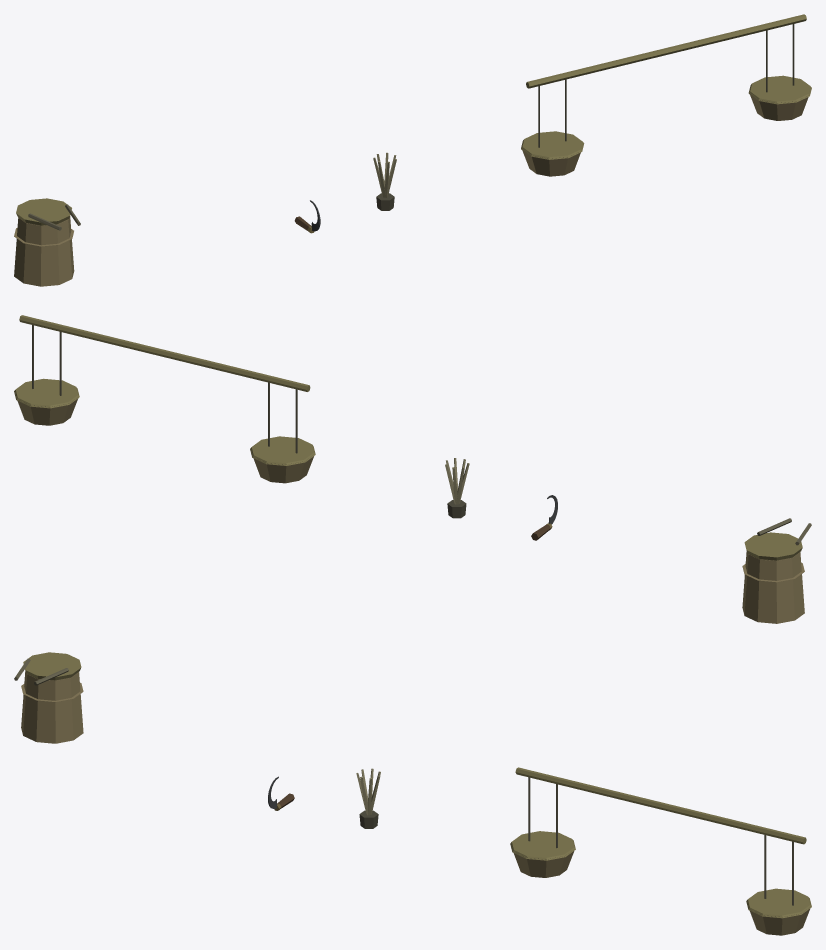
Rendered from rice_harvest.glb.
The picture shows the model from 3 angles, top to bottom: view 1: azimuth 30°, elevation 25°; view 2: azimuth 150°, elevation 25°; view 3: azimuth 330°, elevation 25°; orthographic projection. The views are drawn at different scales.
Parts seen in each view (by area): view 1: carry_pole, rice_basket_back, rice_bundle; view 2: carry_pole, rice_basket_back, rice_bundle; view 3: carry_pole, rice_basket_back, rice_bundle.
Boxes of the visible parts, x1,y1,x2,y2 form: carry_pole: (521, 14, 811, 176); rice_basket_back: (14, 198, 80, 286); rice_bundle: (373, 152, 396, 210); carry_pole: (14, 315, 315, 483); rice_basket_back: (742, 518, 811, 623); rice_bundle: (445, 458, 469, 518); carry_pole: (510, 767, 811, 935); rice_basket_back: (14, 652, 83, 743); rice_bundle: (356, 768, 380, 828).
Bounding box in the file's own units: 4.33 × 0.4847 × 0.4782.
Materials: 4 (4 with a texture image).
